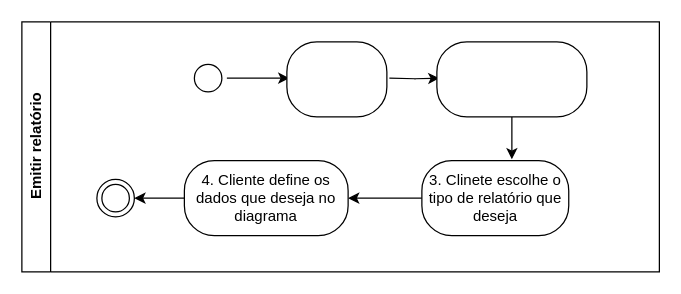
Image size: 681x294. Some labels were removed from this diagram. Here are the shapes that lost their labels. From the top down, the centre of each, then its label:
At (336,79): "1. Cliente acessa o aplicativo".
At (511,79): "2. Cliente acessa a página de Emissão de relatórios".
